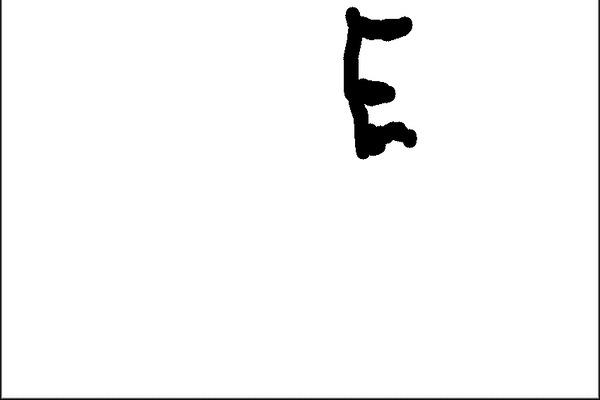E: (337, 2, 429, 161)
